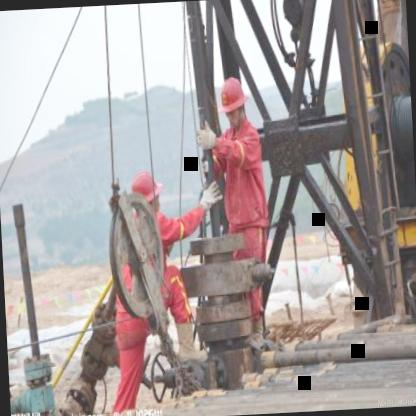helmet: (126, 167, 162, 223), (217, 73, 250, 131)
